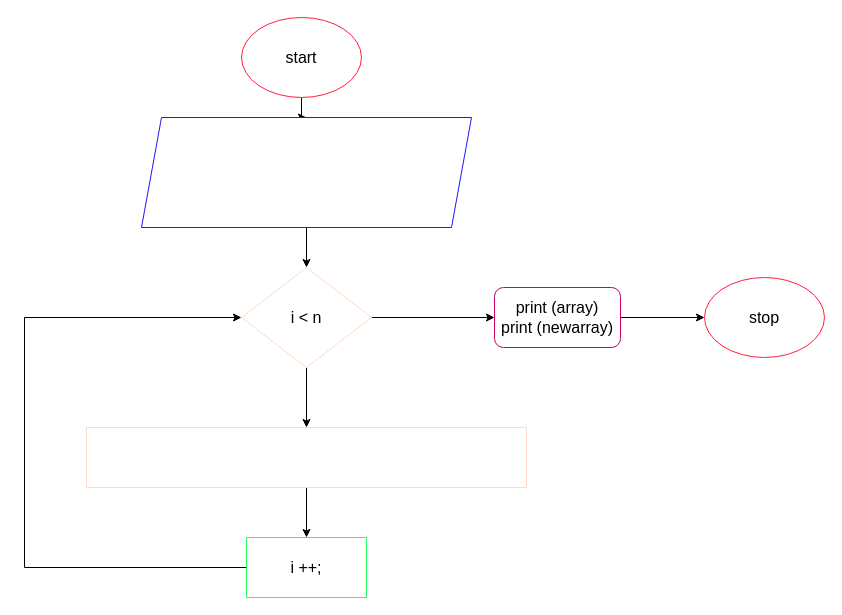
Image size: 842x615. Some labels were removed from this diagram. The centre of each missing label's shape, as x and y in pixels:
"array[i] = Console.ReadLine() array[i].Length <= m newarray[i] = array[i]" goes at (306,457).
"n = введите количество элементов m = введите количество символов" goes at (306,172).
